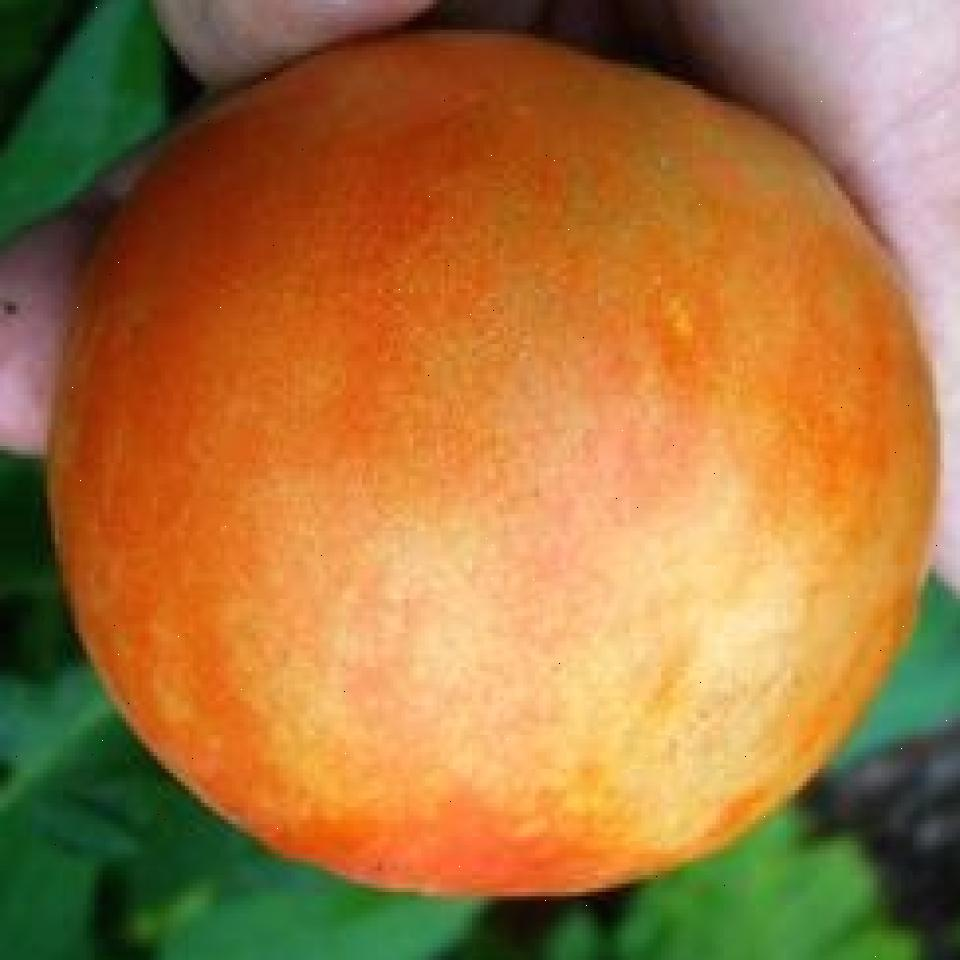Spotted wilt Virus: (44, 35, 948, 903)
